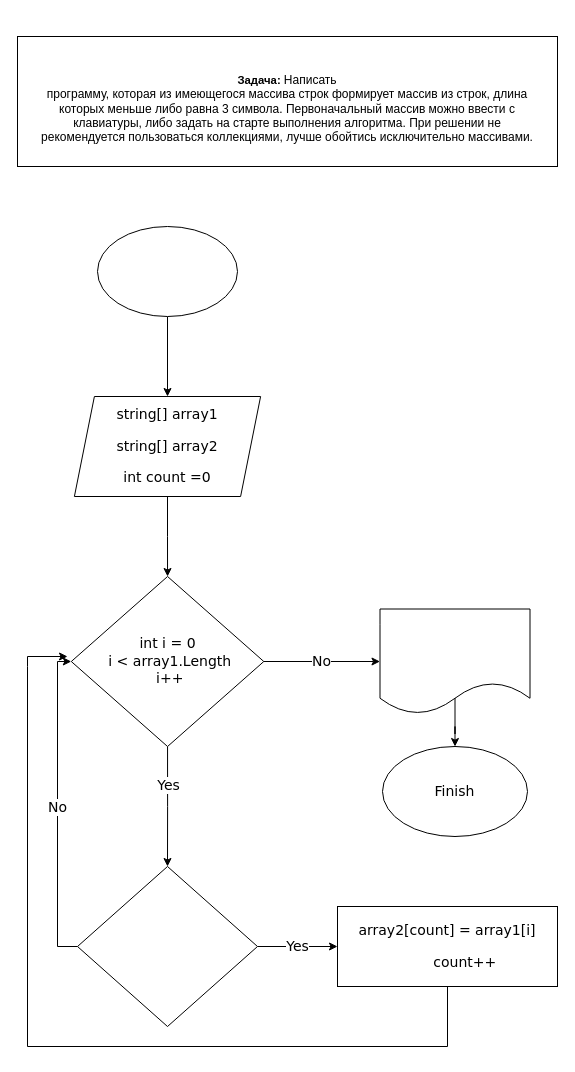
Some shapes in this 575 by 1072 pixel diagram are drawn without their labels. The centre of each missing label's shape, as x and y in pixels:
"array1[i].Length <= 3" belongs at pixel 167 946.
"PrintArray(array2)" belongs at pixel 454 661.
"Start" belongs at pixel 167 271.
